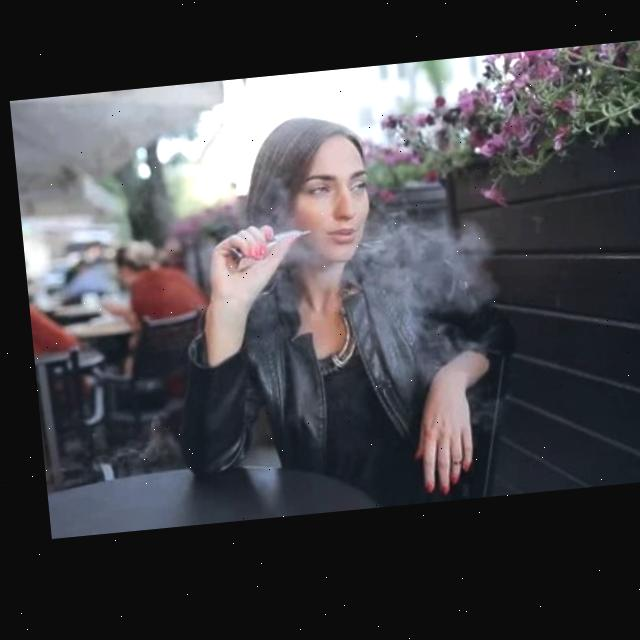vape: (222, 234, 310, 277)
